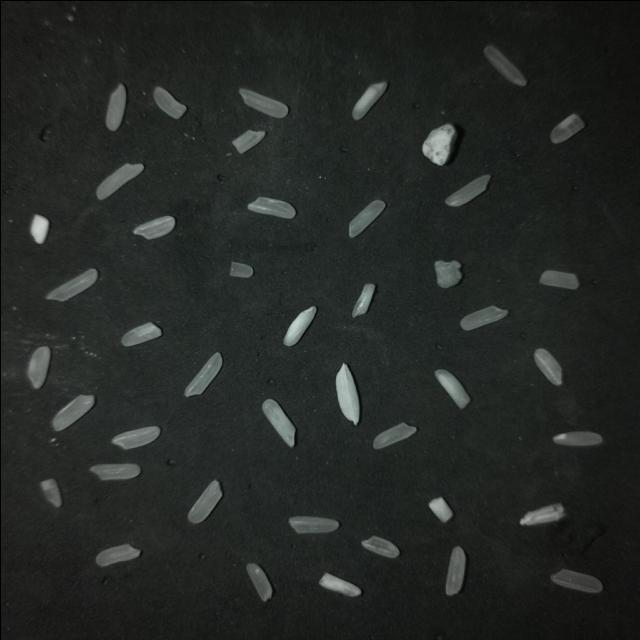broken: (550, 113, 584, 143), (231, 129, 265, 153), (39, 477, 61, 507), (428, 496, 452, 521), (229, 261, 252, 276)
chalky: (262, 398, 295, 446), (434, 369, 469, 408), (351, 81, 386, 119), (283, 306, 315, 345), (111, 425, 160, 448), (533, 347, 561, 385), (247, 196, 295, 217), (132, 215, 175, 238), (319, 572, 360, 595), (121, 322, 161, 345), (351, 282, 375, 316), (29, 214, 48, 243)
foreign: (421, 123, 456, 165), (335, 363, 359, 423), (519, 502, 564, 525), (434, 259, 461, 287)
whole: (483, 44, 526, 85), (96, 162, 143, 199), (46, 267, 97, 300), (184, 352, 221, 395), (52, 394, 94, 430), (187, 479, 221, 523), (239, 87, 288, 117), (444, 174, 490, 205), (348, 199, 385, 236), (459, 305, 507, 330), (372, 422, 416, 448), (550, 569, 601, 591), (152, 86, 186, 118), (95, 543, 140, 565), (105, 83, 126, 130), (27, 346, 50, 388), (445, 546, 465, 594), (246, 562, 271, 600), (89, 462, 140, 479), (288, 516, 338, 532), (361, 535, 398, 556), (539, 269, 578, 288), (552, 431, 601, 445)
